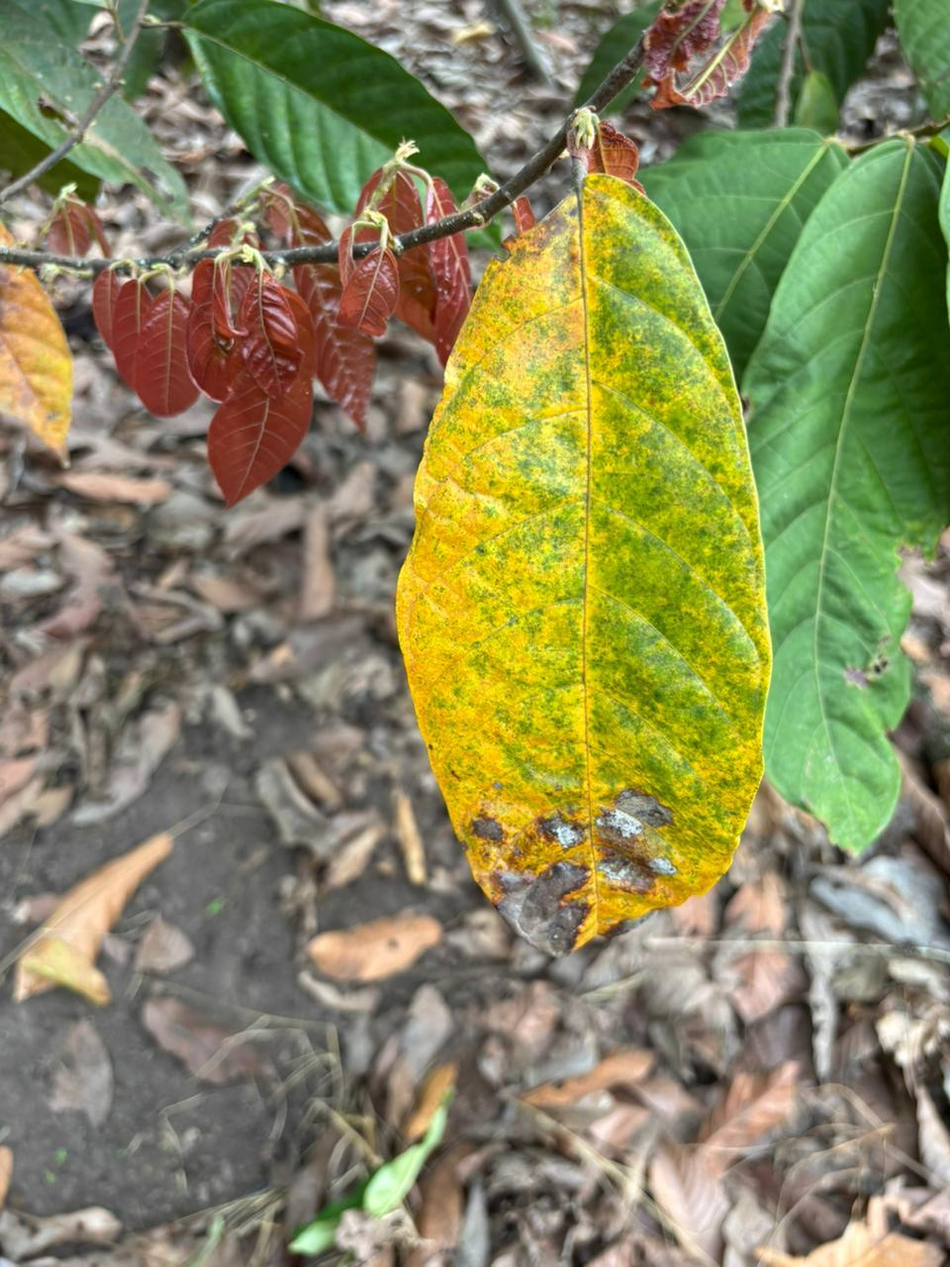deficienciia_fosforo: (397, 176, 770, 953)
